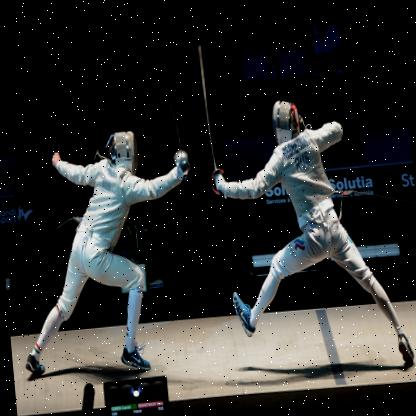fencer: (200, 88, 415, 387), (5, 110, 216, 384)
